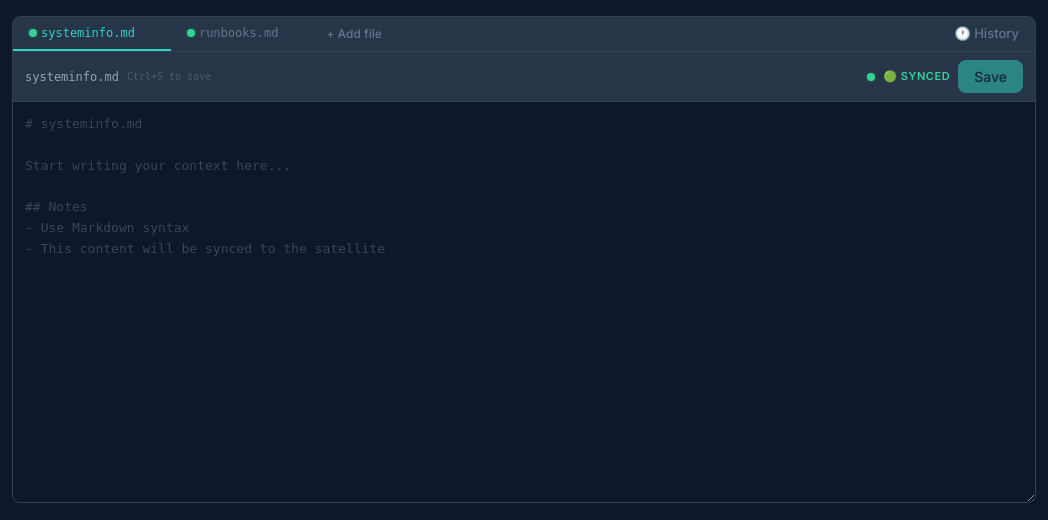
Test: ContextEditor › editing shows Unsaved sync status
Replace the text in the text box with class "context-editor__textarea" with "changed content" at (524, 302), box [13,102,1035,502]
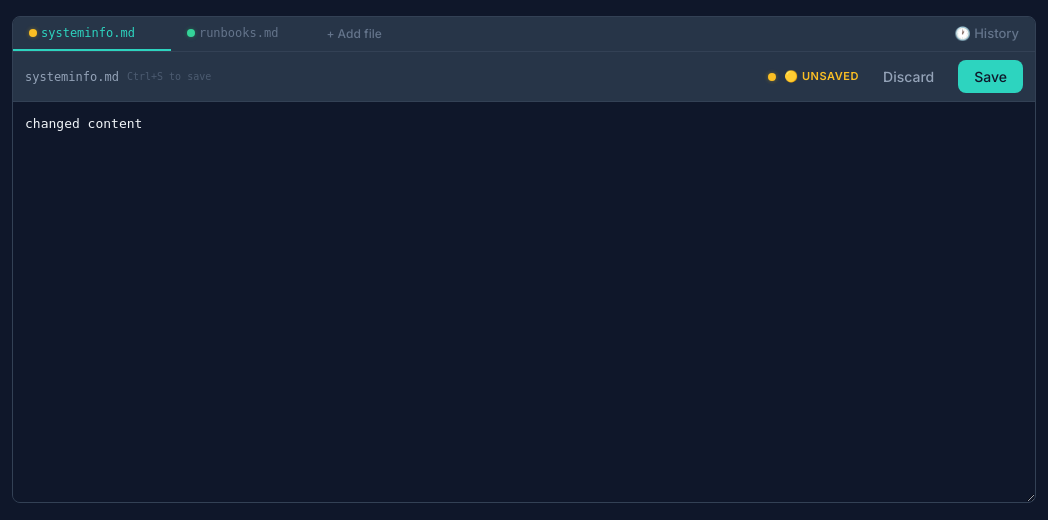
Now the text "🟡 Unsaved" is shown, box [784,68,859,85]
